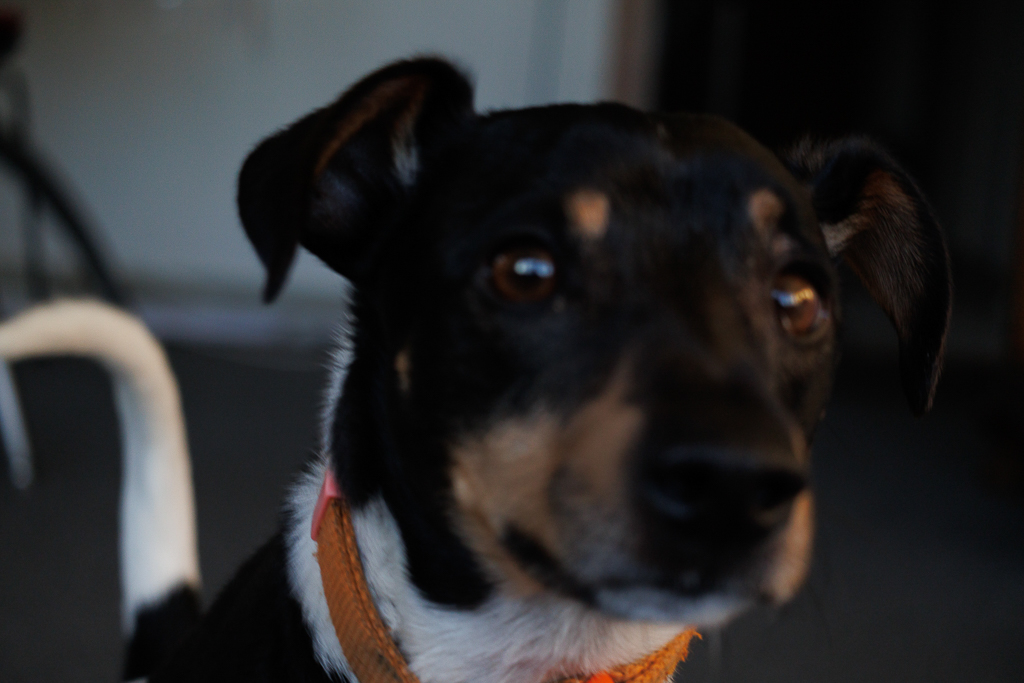Dog: (0, 44, 967, 683)
